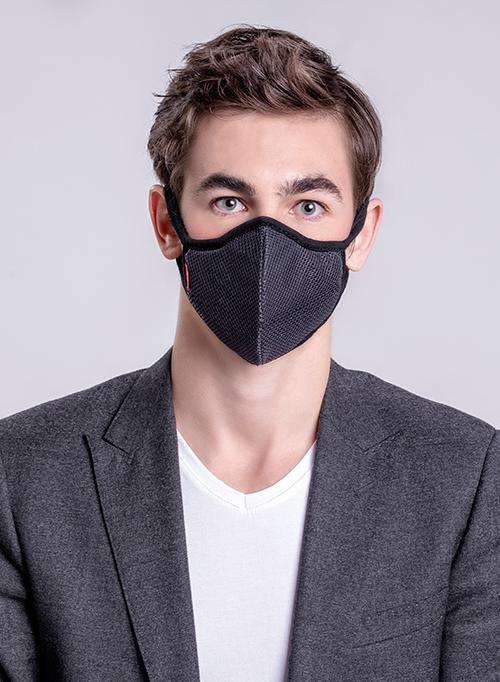Wearing Mask: (108, 0, 437, 402)
